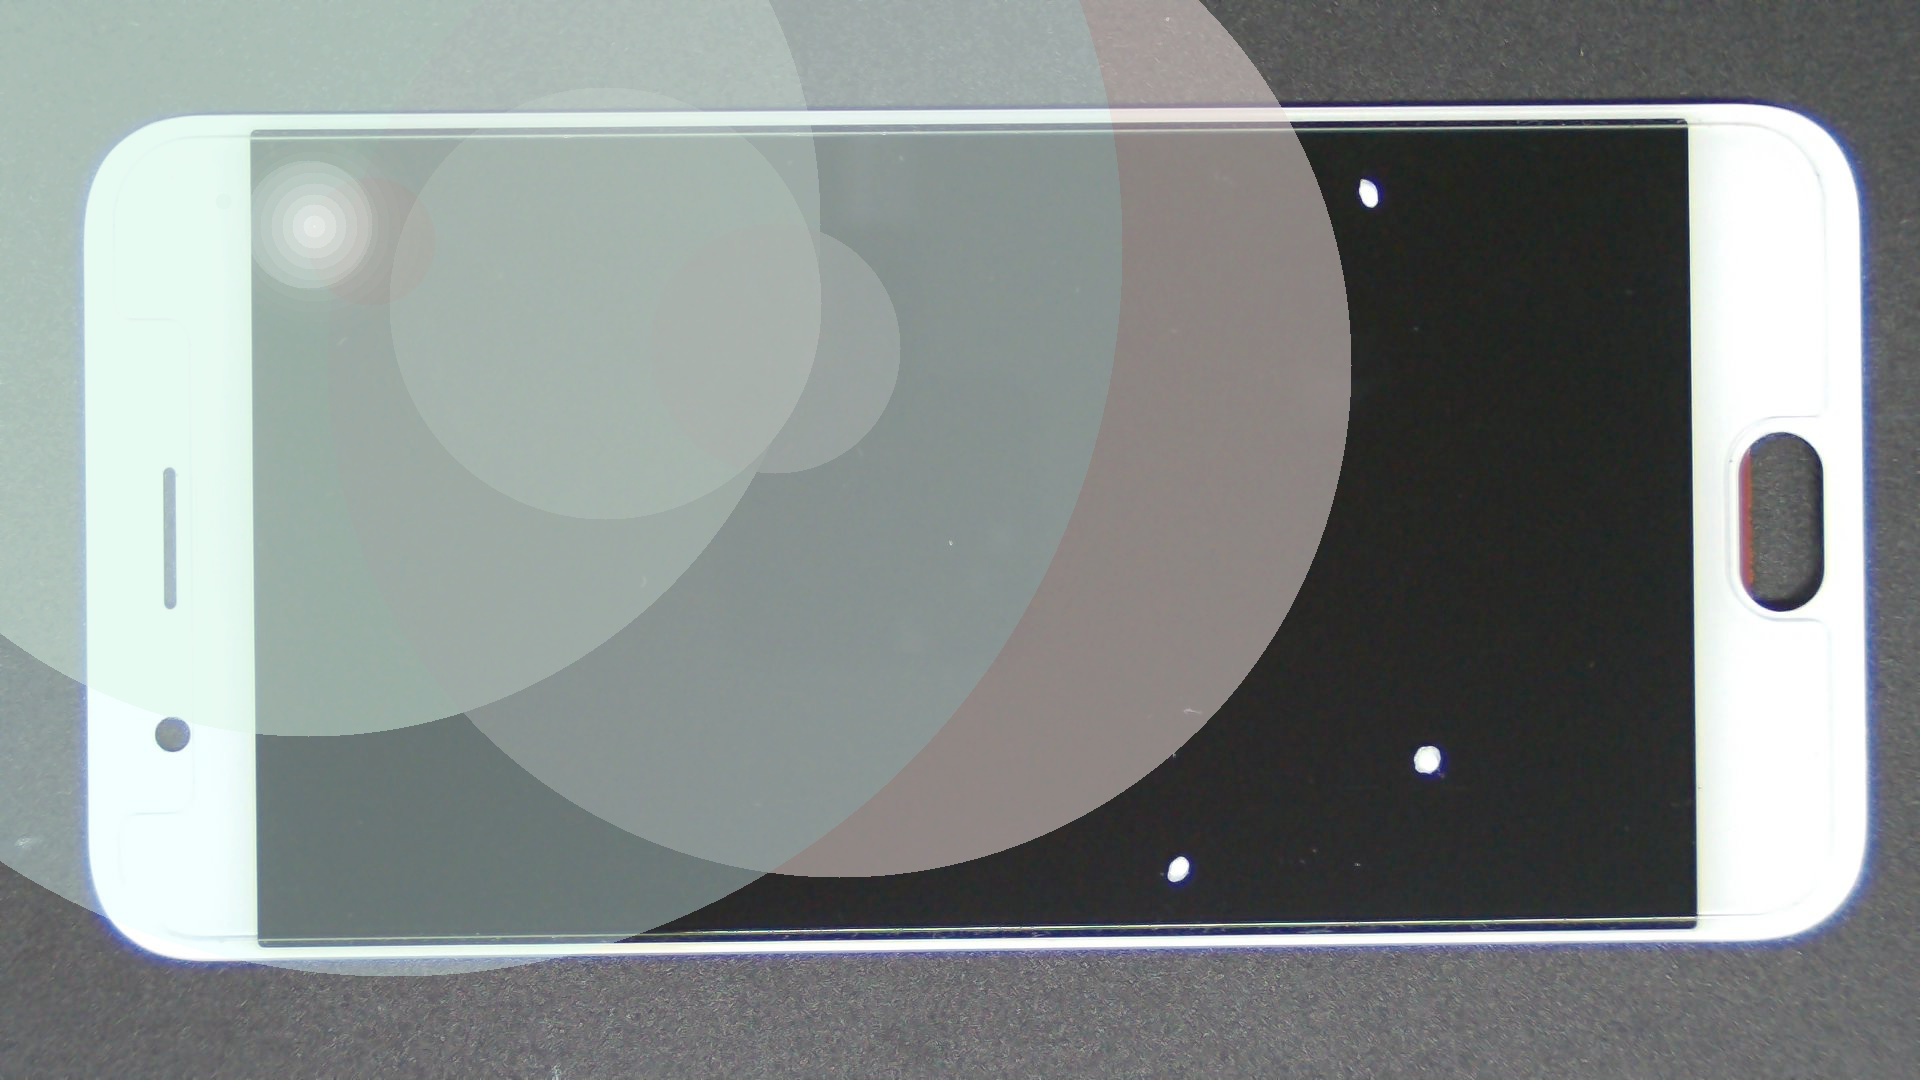oil: (715, 372, 1920, 1080), (591, 426, 1771, 1080), (679, 88, 1920, 266)
